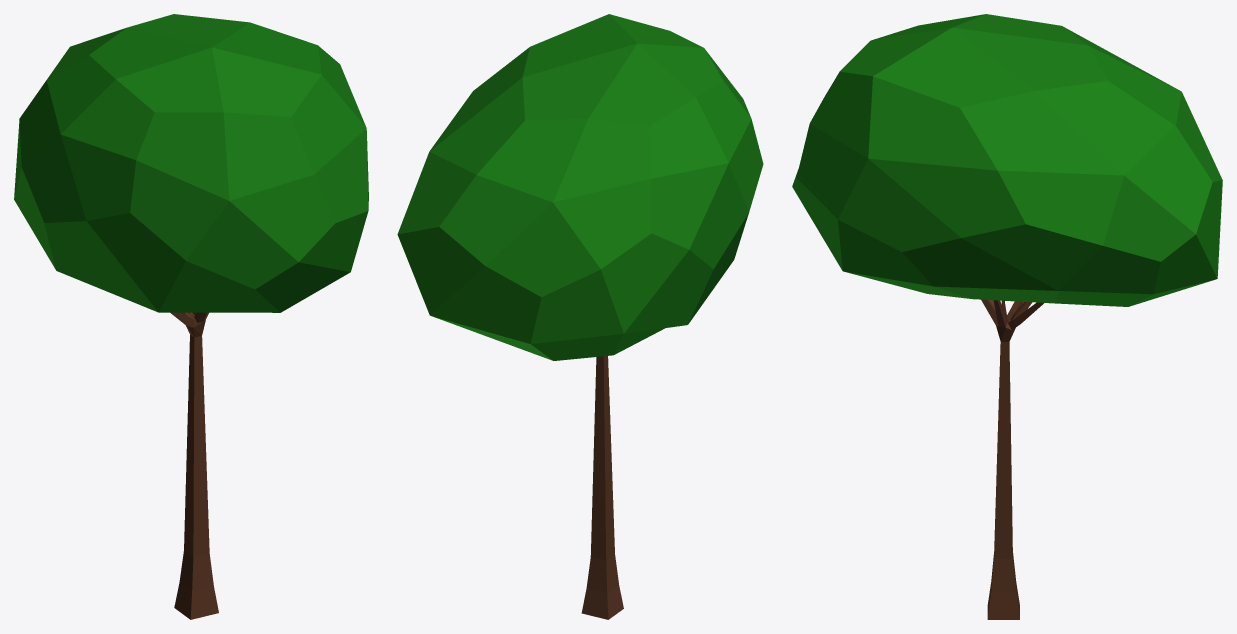
File: arvore3.fbx
The picture shows the model from 3 angles, left to right: view 1: azimuth 30°, elevation 25°; view 2: azimuth 150°, elevation 25°; view 3: azimuth 270°, elevation 25°; orthographic projection. The views are drawn at different scales.
Parts seen in each view (by area): view 1: Icosphere.008; view 2: Icosphere.008; view 3: Icosphere.008.
Part boxes in pixels (x1,y1,x2,y2): Icosphere.008: [14, 14, 368, 619]; Icosphere.008: [397, 14, 763, 619]; Icosphere.008: [792, 14, 1222, 619].
Bounding box in the file's own units: 3.51 × 6.7 × 4.51.
